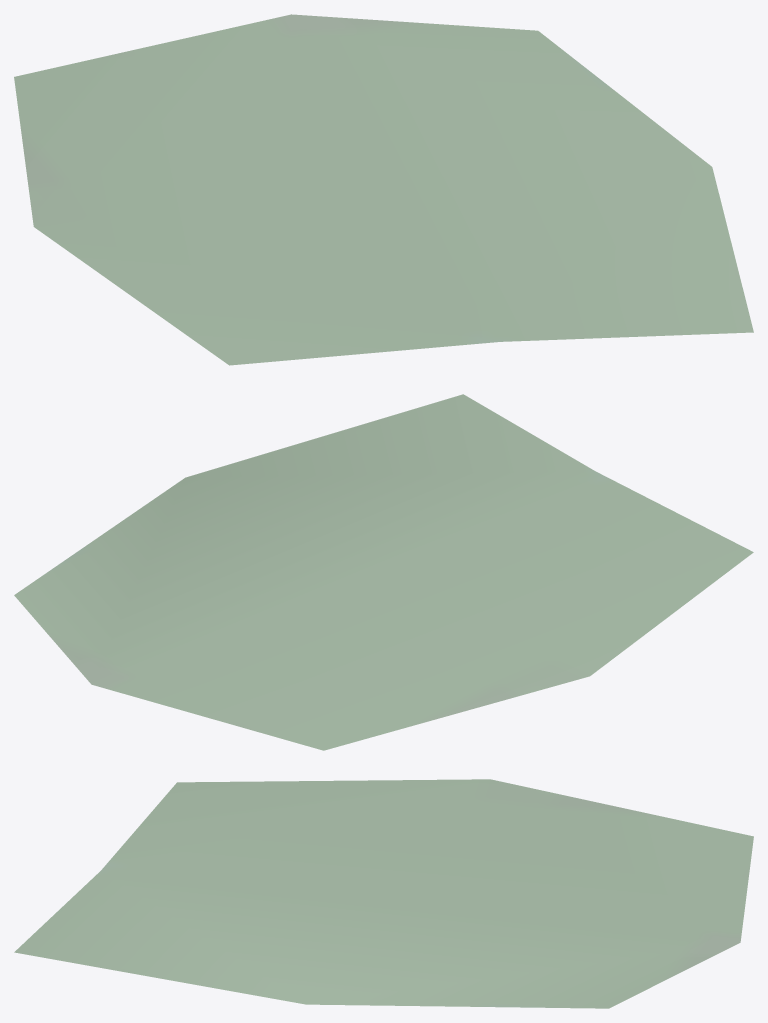
The model's file is TROLLHOLE02_HOLECAP153.fbx.
3 renders of one model, top to bottom at view 1: azimuth 30°, elevation 25°; view 2: azimuth 150°, elevation 25°; view 3: azimuth 270°, elevation 25°, orthographic. The views are drawn at different scales.
Visible parts, largest first — view 1: TROLLHOLE02_HOLECAP153; view 2: TROLLHOLE02_HOLECAP153; view 3: TROLLHOLE02_HOLECAP153.
Part boxes in pixels (left/top/right/bottom): TROLLHOLE02_HOLECAP153: left=14, top=14, right=753, bottom=365; TROLLHOLE02_HOLECAP153: left=14, top=394, right=753, bottom=750; TROLLHOLE02_HOLECAP153: left=14, top=779, right=753, bottom=1008.
Bounding box in the file's own units: 35357 × 261 × 47671.
Materials: 1 (1 with a texture image).
